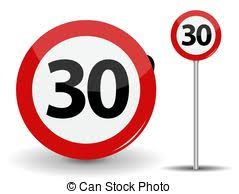Speed_limit_30km: (14, 20, 158, 161), (171, 10, 222, 60)
